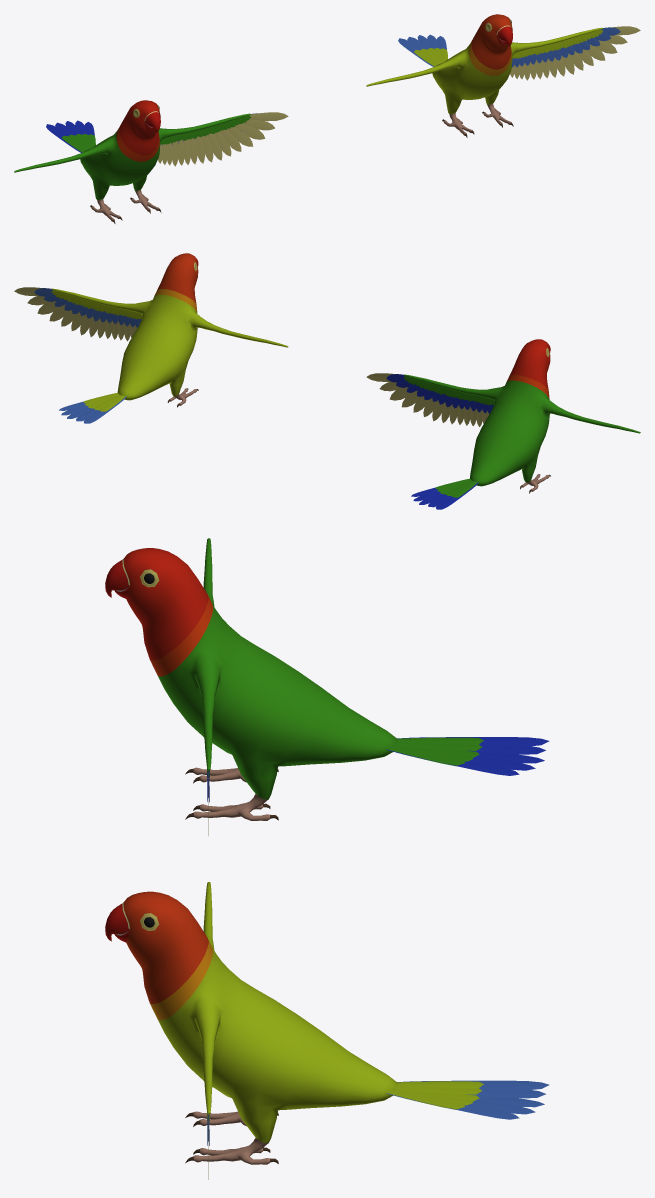
The model's file is lovebird.obj.
3 views of the same model, one above another, from view 1: azimuth 30°, elevation 25°; view 2: azimuth 150°, elevation 25°; view 3: azimuth 270°, elevation 25° (orthographic). The views are drawn at different scales.
Visible parts, largest first — view 1: lovebird.001, lovebird; view 2: lovebird.001, lovebird; view 3: lovebird, lovebird.001.
Part boxes in pixels (box(x1,y1,x2,y2)): lovebird.001: box(14, 100, 250, 223); lovebird: box(366, 14, 602, 137); lovebird.001: box(404, 339, 640, 493); lovebird: box(52, 253, 288, 407); lovebird: box(105, 882, 397, 1164); lovebird.001: box(105, 538, 397, 820).
Bounding box in the file's own units: 0.5341 × 0.1003 × 0.164.
